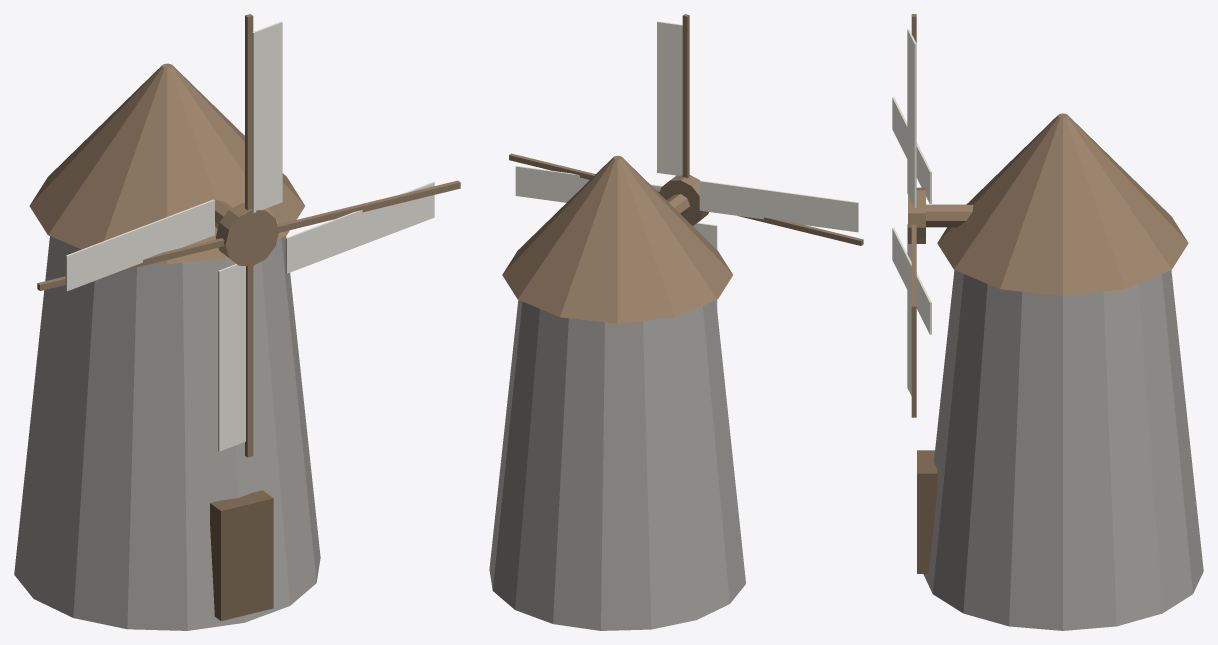
The model's file is stone_windmill.glb.
3 views of the same model, side by side, from view 1: azimuth 30°, elevation 25°; view 2: azimuth 150°, elevation 25°; view 3: azimuth 270°, elevation 25° (orthographic). The views are drawn at different scales.
Visible parts, largest first — view 1: Cone, Cone.001, Cube, Cube.002, Cube.008, Cube.006, Cube.004, Cylinder.001, Cube.003, Cube.001, Cube.005, Cube.007; view 2: Cone, Cone.001, Cube.008, Cube.002, Cube.004, Cube.001, Cylinder.001, Cube.007, Cube.003; view 3: Cone, Cone.001, Cube, Cube.002, Cube.004, Cube.008, Cylinder, Cylinder.001, Cube.005, Cube.006, Cube.003.
Boxes of the visible parts, x1,y1,x2,y2 form: Cone: (14,235,320,630); Cone.001: (29,63,304,264); Cube: (210,490,273,620); Cube.002: (252,21,282,212); Cube.008: (65,199,214,291); Cube.006: (218,264,245,451); Cube.004: (285,182,434,273); Cylinder.001: (215,203,278,266); Cube.003: (277,180,460,232); Cube.001: (245,14,253,210); Cube.005: (245,266,253,457); Cube.007: (37,238,224,290); Cone: (489,300,745,630); Cone.001: (502,155,732,323); Cube.008: (699,180,858,232); Cube.002: (657,21,682,175); Cube.004: (515,166,662,202); Cube.001: (682,14,689,178); Cylinder.001: (659,175,708,225); Cube.007: (738,216,863,245); Cube.003: (509,153,660,193); Cone: (923,270,1203,630); Cone.001: (937,113,1188,296); Cube: (917,450,937,573); Cube.002: (907,29,916,207); Cube.004: (892,227,931,334); Cube.008: (892,97,931,203); Cylinder: (926,204,973,227); Cylinder.001: (908,187,925,243); Cube.005: (911,312,916,417); Cube.006: (907,223,911,395); Cube.003: (911,224,916,311).
Size of the model in its own units: 4.4 by 6.1 by 3.1.
